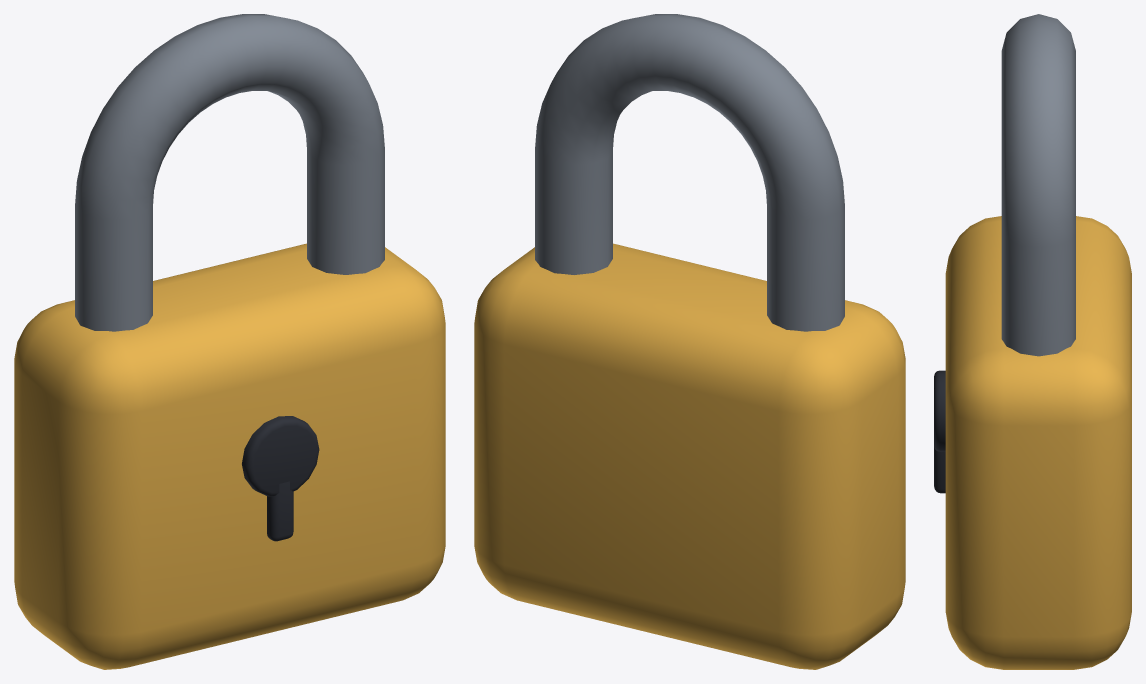
The model's file is cadeado.glb.
3 renders of one model, left to right at view 1: azimuth 30°, elevation 25°; view 2: azimuth 150°, elevation 25°; view 3: azimuth 270°, elevation 25°, orthographic. The views are drawn at different scales.
Visible parts, largest first — view 1: cadeado_corpo, tubo, Cylinder, Cube; view 2: cadeado_corpo, tubo; view 3: cadeado_corpo, tubo, Cylinder, Cube.
Part boxes in pixels (<box>): cadeado_corpo: <box>14,243,445,669</box>; tubo: <box>75,14,384,331</box>; Cylinder: <box>242,416,319,496</box>; Cube: <box>267,481,293,541</box>; cadeado_corpo: <box>474,243,905,669</box>; tubo: <box>535,14,844,331</box>; cadeado_corpo: <box>945,216,1131,669</box>; tubo: <box>1001,14,1075,356</box>; Cylinder: <box>934,370,945,451</box>; Cube: <box>934,446,945,493</box>.
Size of the model in its own units: 0.36 by 0.542 by 0.17.
